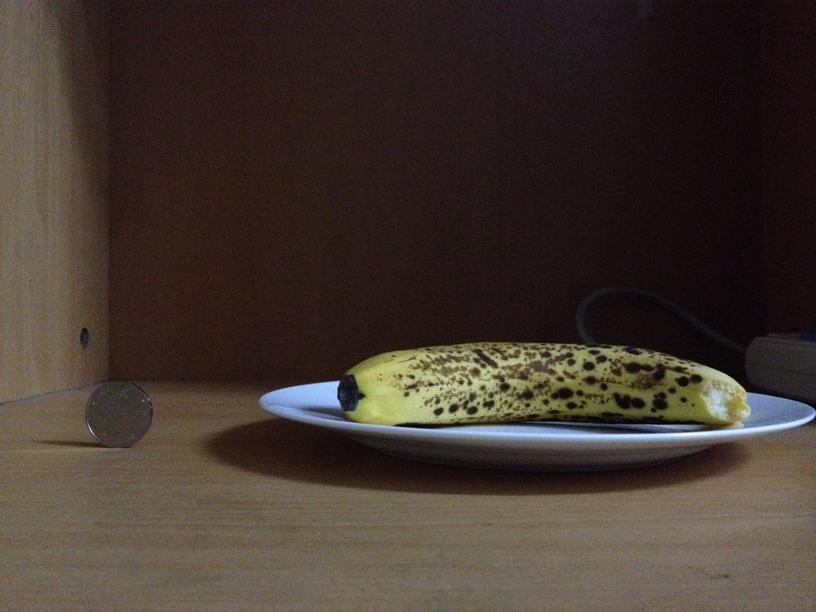banana: (335, 338, 746, 427)
coin: (80, 382, 153, 448)
